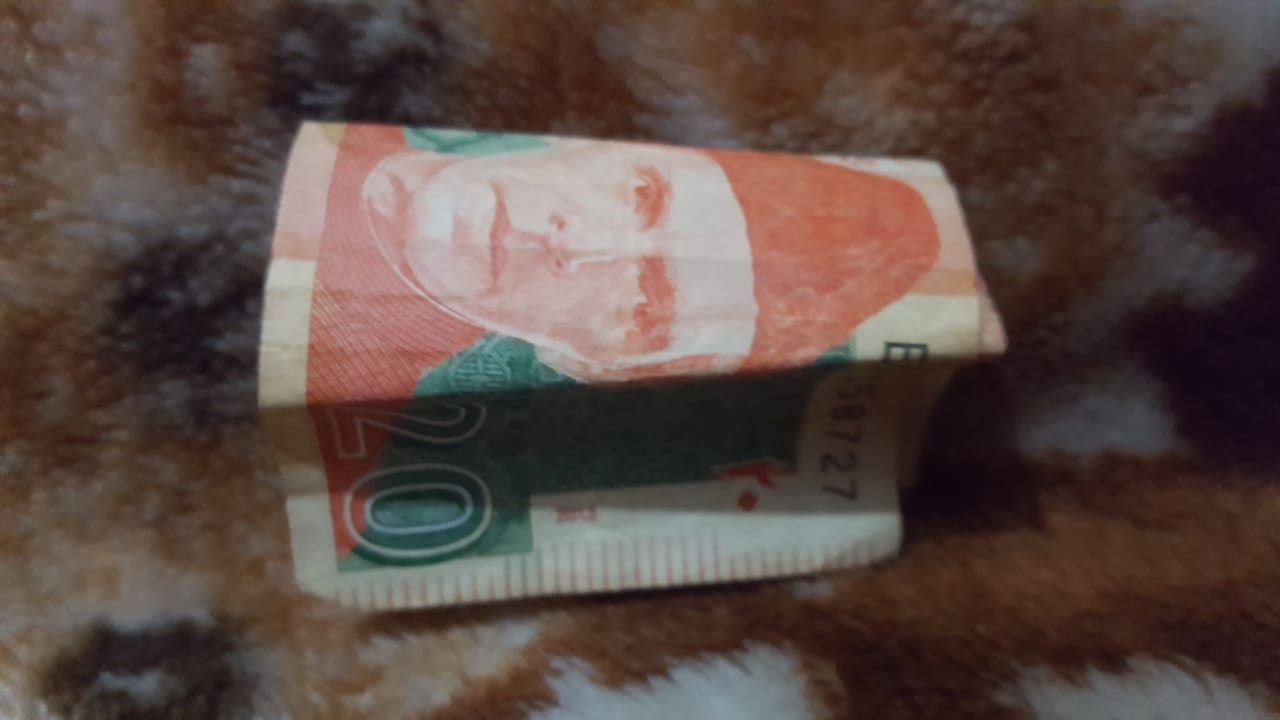20 rupee: (247, 94, 1025, 656)
